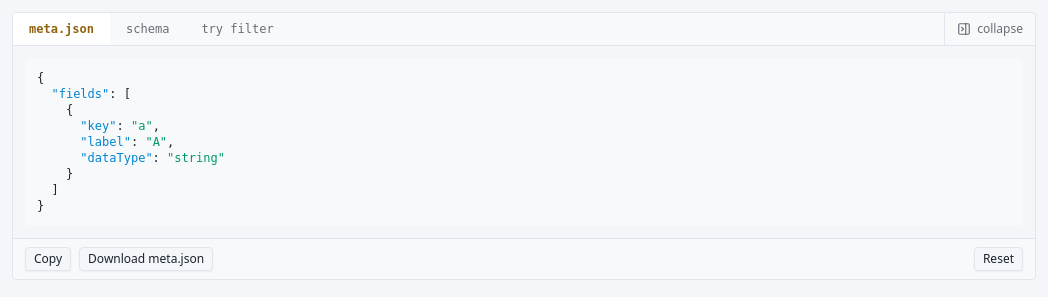
Scenario: CodePanel tabs › shows the empty-schema hint on the try tab when nothing is filterable
Click the button "try filter" at x=238, y=29, box [185,13,290,45]
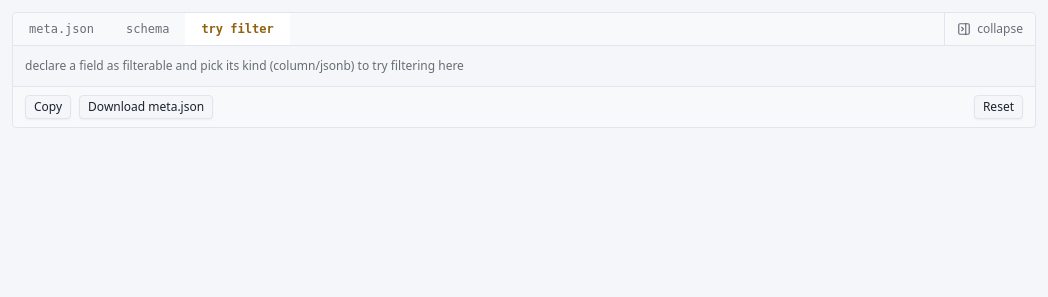
Check: the text "declare a field as filterable and pick its kind (column/jsonb) to try filtering here" is shown, box [25,57,464,74]
